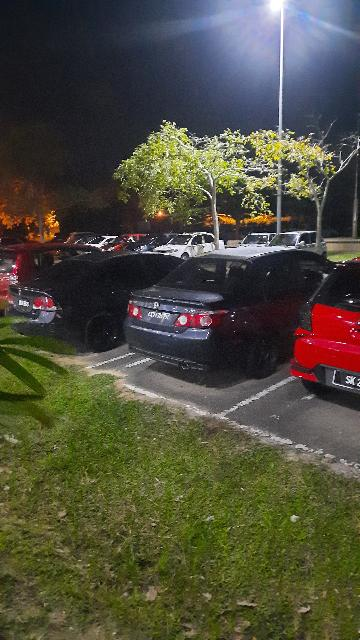License_Plate: (139, 305, 183, 330), (331, 369, 360, 393)
car: (125, 246, 347, 376), (3, 248, 202, 346), (292, 250, 360, 422)
